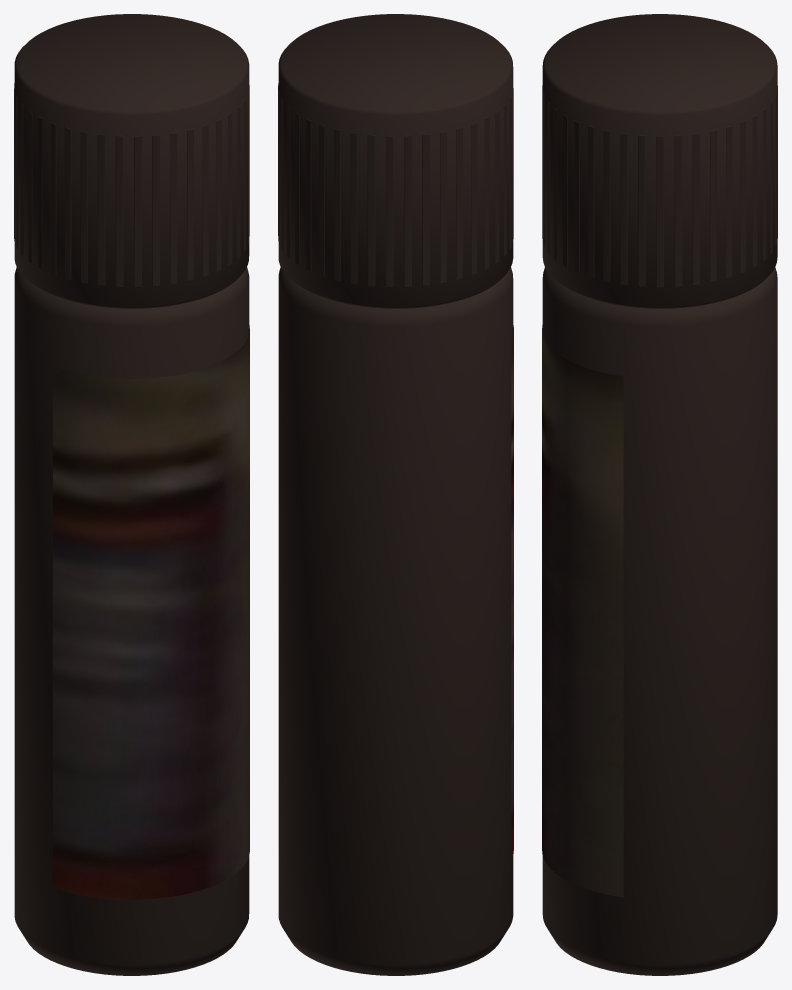
Rendered from pantry_contents__dark_pantry_canister.glb.
3 renders of one model, left to right at view 1: azimuth 30°, elevation 25°; view 2: azimuth 150°, elevation 25°; view 3: azimuth 270°, elevation 25°, orthographic.
Visible parts, largest first — view 1: dark_pantry_canister__body, dark_pantry_canister__cap; view 2: dark_pantry_canister__body, dark_pantry_canister__cap; view 3: dark_pantry_canister__body, dark_pantry_canister__cap.
Part boxes in pixels (x1,y1,x2,y2): dark_pantry_canister__body: (14, 267, 249, 975); dark_pantry_canister__cap: (14, 14, 249, 308); dark_pantry_canister__body: (278, 267, 513, 975); dark_pantry_canister__cap: (278, 14, 513, 308); dark_pantry_canister__body: (542, 267, 777, 975); dark_pantry_canister__cap: (542, 14, 777, 308).
Size of the model in its own units: 0.0416 by 0.1693 by 0.0417.
3 materials, 1 textured.
